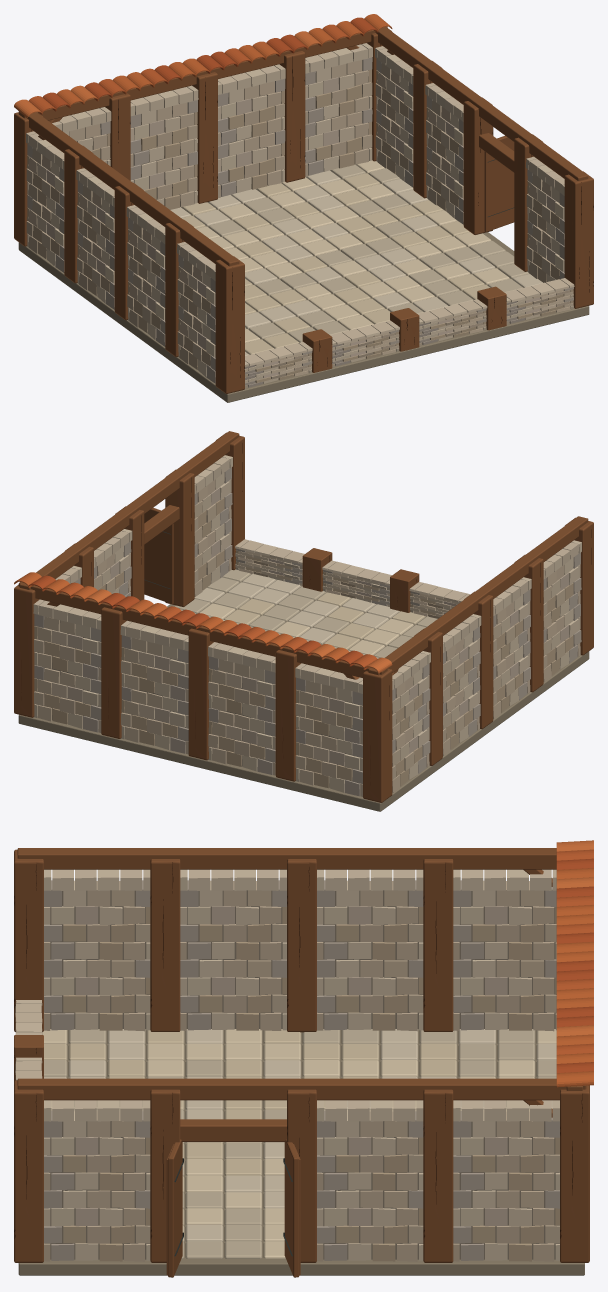
Rendered from bottling_hut_shell_v03.glb.
3 views of the same model, one above another, from view 1: azimuth 30°, elevation 25°; view 2: azimuth 150°, elevation 25°; view 3: azimuth 270°, elevation 25° (orthographic). The views are drawn at different scales.
Parts seen in each view (by area): view 1: Floor_StoneSurface, BackWall_04__Straight_Stone_03_06_upper, BackWall_03__Straight_Stone_03_06_upper, BackWall_02__Straight_Stone_03_06_upper, Floor foundation, BackWall_CurvedTerracottaEaves, LeftWall_02__Straight_Stone_03_06_upper, LeftWall_01__Straight_Stone_03_06_upper, LeftWall_04__Straight_Stone_03_06_upper, RightWall_04__Straight_Stone_03_06_upper, RightWall_03__Limestone, LeftWall_03__Straight_Stone_03_06_upper (+27 smaller); view 2: Floor_StoneSurface, BackWall_03__Straight_Stone_03_06_upper, BackWall_04__Straight_Stone_03_06_upper, BackWall_02__Straight_Stone_03_06_upper, BackWall_01__Limestone, Floor foundation, BackWall_CurvedTerracottaEaves, LeftWall_01__Straight_Stone_03_06_upper, RightWall_01__Straight_Stone_03_06_upper, LeftWall_04__Straight_Stone_03_06_upper, LeftWall_02__Straight_Stone_03_06_upper, LeftWall_03__Straight_Stone_03_06_upper (+24 smaller); view 3: Floor_StoneSurface, LeftWall_01__Straight_Stone_03_06_upper, LeftWall_03__Straight_Stone_03_06_upper, LeftWall_02__Straight_Stone_03_06_upper, RightWall_01__Straight_Stone_03_06_upper, RightWall_03__Limestone, RightWall_04__Straight_Stone_03_06_upper, LeftWall_04__Straight_Stone_03_06_upper, Right top beam, Left top beam, Floor foundation, BackWall_CurvedTerracottaEaves (+15 smaller).
Boxes of the visible parts, bbox=[...] form: Floor_StoneSurface: bbox=[170, 160, 542, 355]; BackWall_04__Straight_Stone_03_06_upper: bbox=[305, 43, 372, 176]; BackWall_03__Straight_Stone_03_06_upper: bbox=[217, 64, 285, 197]; BackWall_02__Straight_Stone_03_06_upper: bbox=[130, 85, 198, 209]; Floor foundation: bbox=[18, 172, 589, 402]; BackWall_CurvedTerracottaEaves: bbox=[14, 14, 392, 118]; LeftWall_02__Straight_Stone_03_06_upper: bbox=[126, 205, 165, 346]; LeftWall_01__Straight_Stone_03_06_upper: bbox=[177, 242, 215, 383]; LeftWall_04__Straight_Stone_03_06_upper: bbox=[26, 131, 64, 272]; RightWall_04__Straight_Stone_03_06_upper: bbox=[375, 46, 413, 187]; RightWall_03__Limestone: bbox=[425, 83, 463, 224]; LeftWall_03__Straight_Stone_03_06_upper: bbox=[76, 168, 114, 309]; Floor_StoneSurface: bbox=[175, 569, 437, 658]; BackWall_03__Straight_Stone_03_06_upper: bbox=[120, 620, 188, 754]; BackWall_04__Straight_Stone_03_06_upper: bbox=[33, 599, 101, 732]; BackWall_02__Straight_Stone_03_06_upper: bbox=[208, 642, 275, 775]; BackWall_01__Limestone: bbox=[295, 663, 362, 796]; Floor foundation: bbox=[18, 581, 589, 811]; BackWall_CurvedTerracottaEaves: bbox=[14, 572, 392, 673]; LeftWall_01__Straight_Stone_03_06_upper: bbox=[543, 540, 581, 681]; RightWall_01__Straight_Stone_03_06_upper: bbox=[194, 455, 232, 596]; LeftWall_04__Straight_Stone_03_06_upper: bbox=[392, 651, 430, 792]; LeftWall_02__Straight_Stone_03_06_upper: bbox=[493, 577, 531, 718]; LeftWall_03__Straight_Stone_03_06_upper: bbox=[443, 614, 481, 755]; Floor_StoneSurface: bbox=[42, 1029, 556, 1258]; LeftWall_01__Straight_Stone_03_06_upper: bbox=[44, 869, 150, 1031]; LeftWall_03__Straight_Stone_03_06_upper: bbox=[317, 869, 423, 1031]; LeftWall_02__Straight_Stone_03_06_upper: bbox=[180, 869, 286, 1030]; RightWall_01__Straight_Stone_03_06_upper: bbox=[44, 1100, 150, 1261]; RightWall_03__Limestone: bbox=[317, 1100, 423, 1261]; RightWall_04__Straight_Stone_03_06_upper: bbox=[453, 1100, 559, 1261]; LeftWall_04__Straight_Stone_03_06_upper: bbox=[453, 869, 556, 1031]; Right top beam: bbox=[17, 1078, 586, 1100]; Left top beam: bbox=[17, 848, 556, 869]; Floor foundation: bbox=[18, 1029, 584, 1275]; BackWall_CurvedTerracottaEaves: bbox=[556, 840, 593, 1087].
Size of the model in its own units: 13.5 by 4.82 by 12.75.
